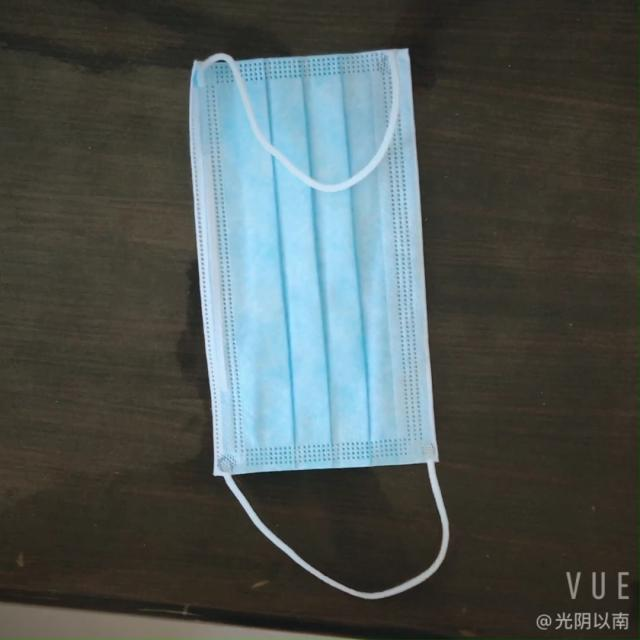non-organic waste: (192, 50, 427, 485)
